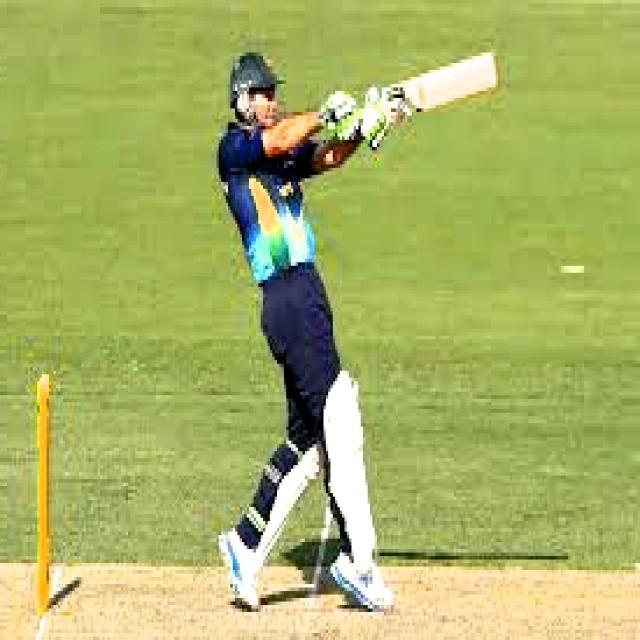toe: (488, 54, 502, 92)
